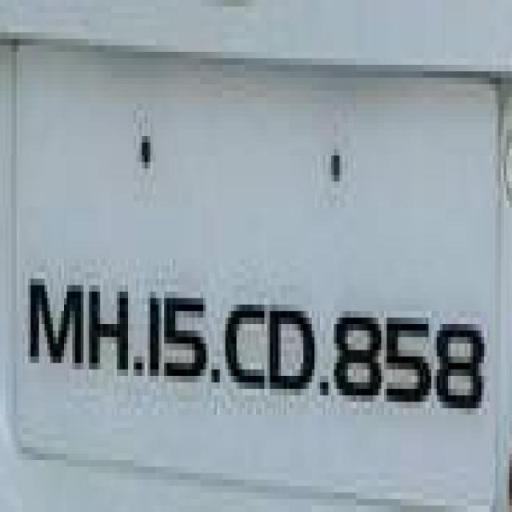number plate: (17, 65, 512, 480)
